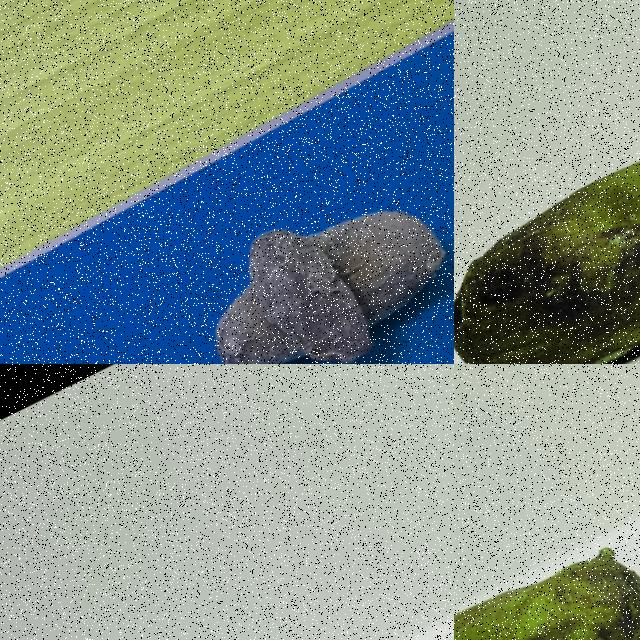Agglomerated_cocoabeans: (102, 92, 453, 363)
Fine_cocoabeans: (454, 35, 639, 363), (7, 574, 453, 639), (454, 499, 639, 639)
